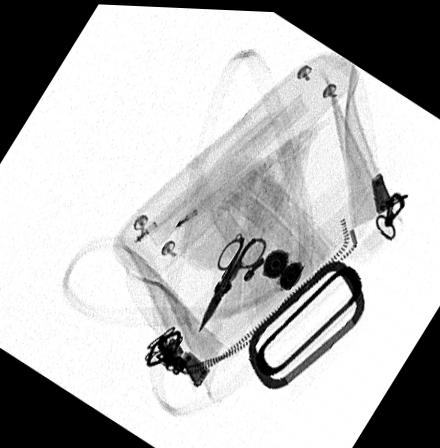Scissors: (199, 228, 269, 330)
